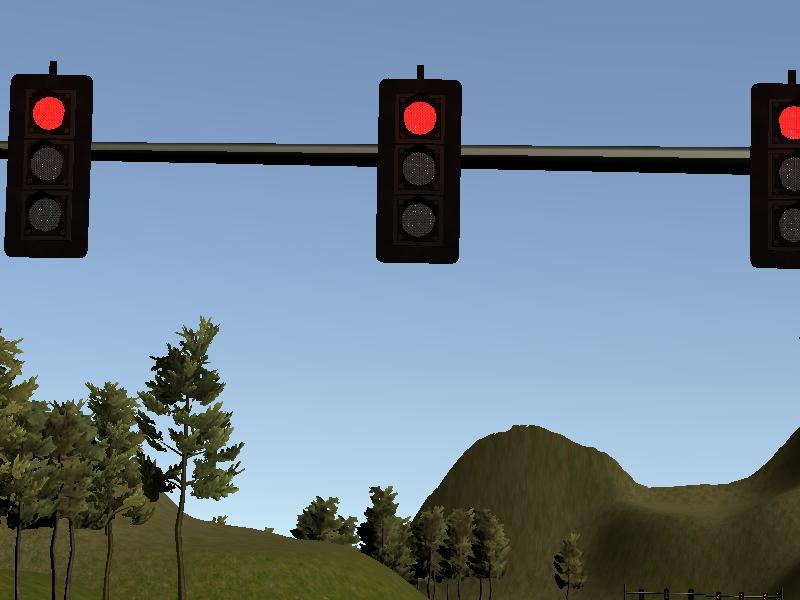Red: (380, 79, 458, 261), (12, 77, 87, 254), (753, 85, 800, 262)
